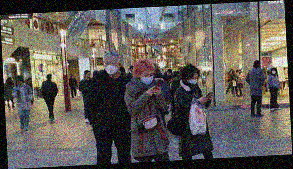with_mask: (103, 58, 120, 75), (140, 71, 155, 85), (187, 75, 199, 85), (270, 68, 277, 74), (70, 74, 73, 77)
without_mask: (85, 72, 92, 78), (166, 71, 172, 77), (16, 79, 22, 84)
